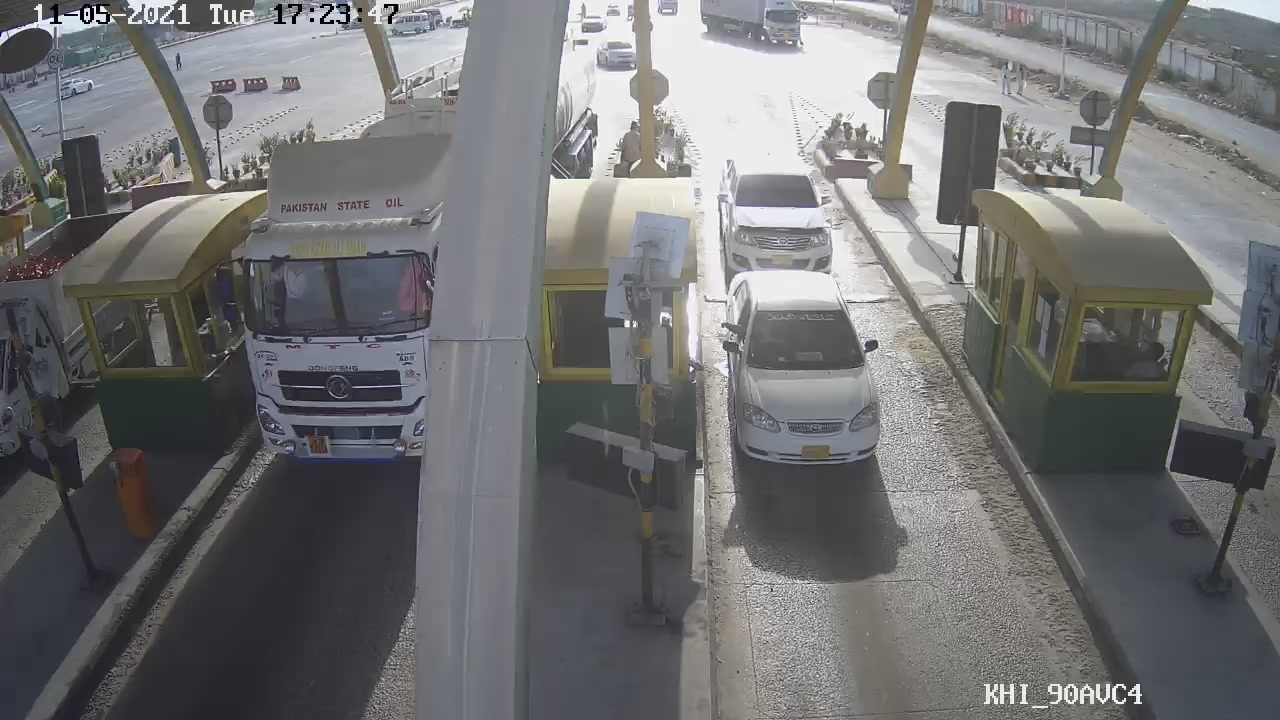F1: (713, 266, 906, 473)
